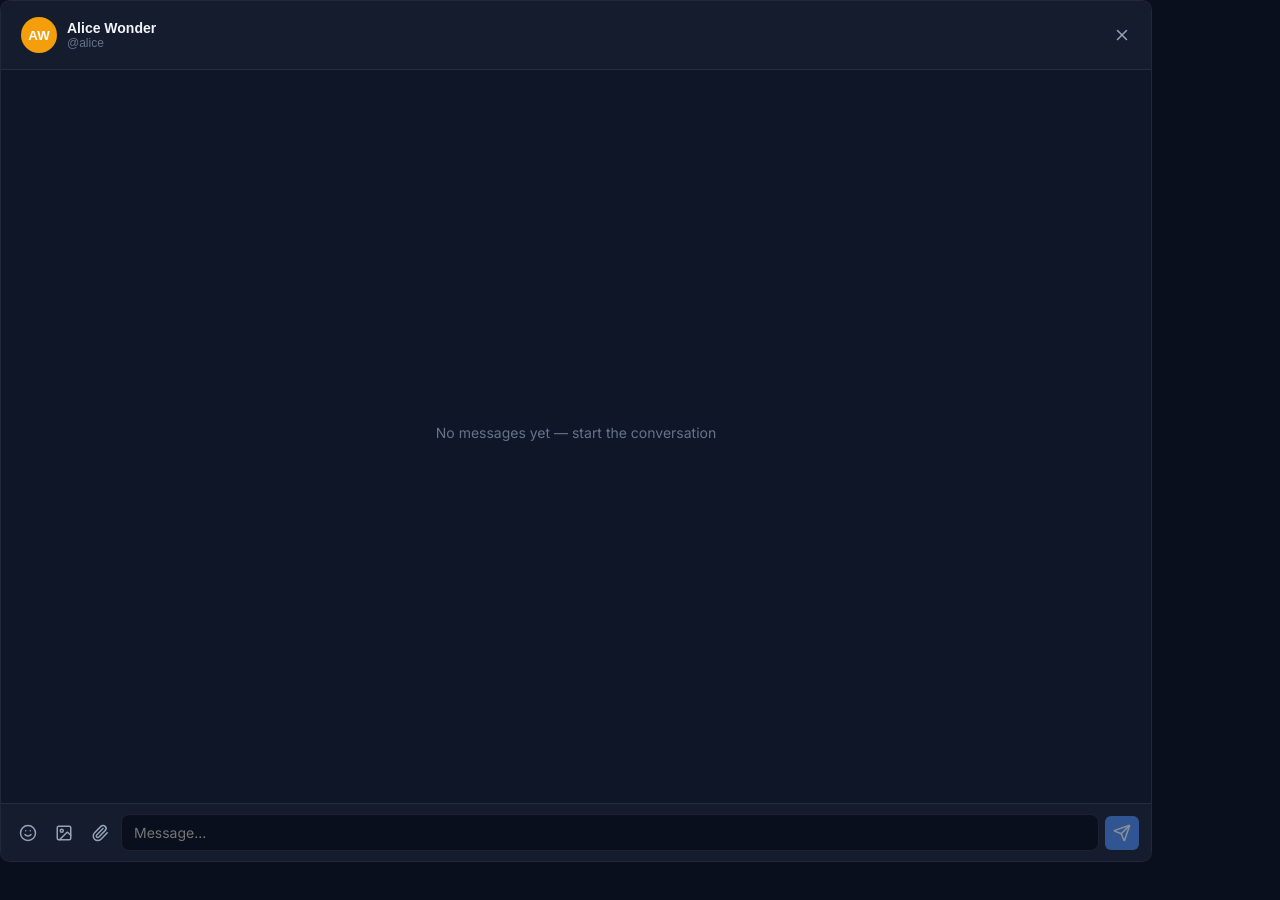
Test: ChatView › opens the GIF picker
Check: the text "No messages yet — start the conversation" is shown, box [436, 424, 716, 441]
What coordinates should you click on to do the following:
click the button named "GIF"
I would click on:
 (100, 832)
Its box is [85, 818, 115, 848].
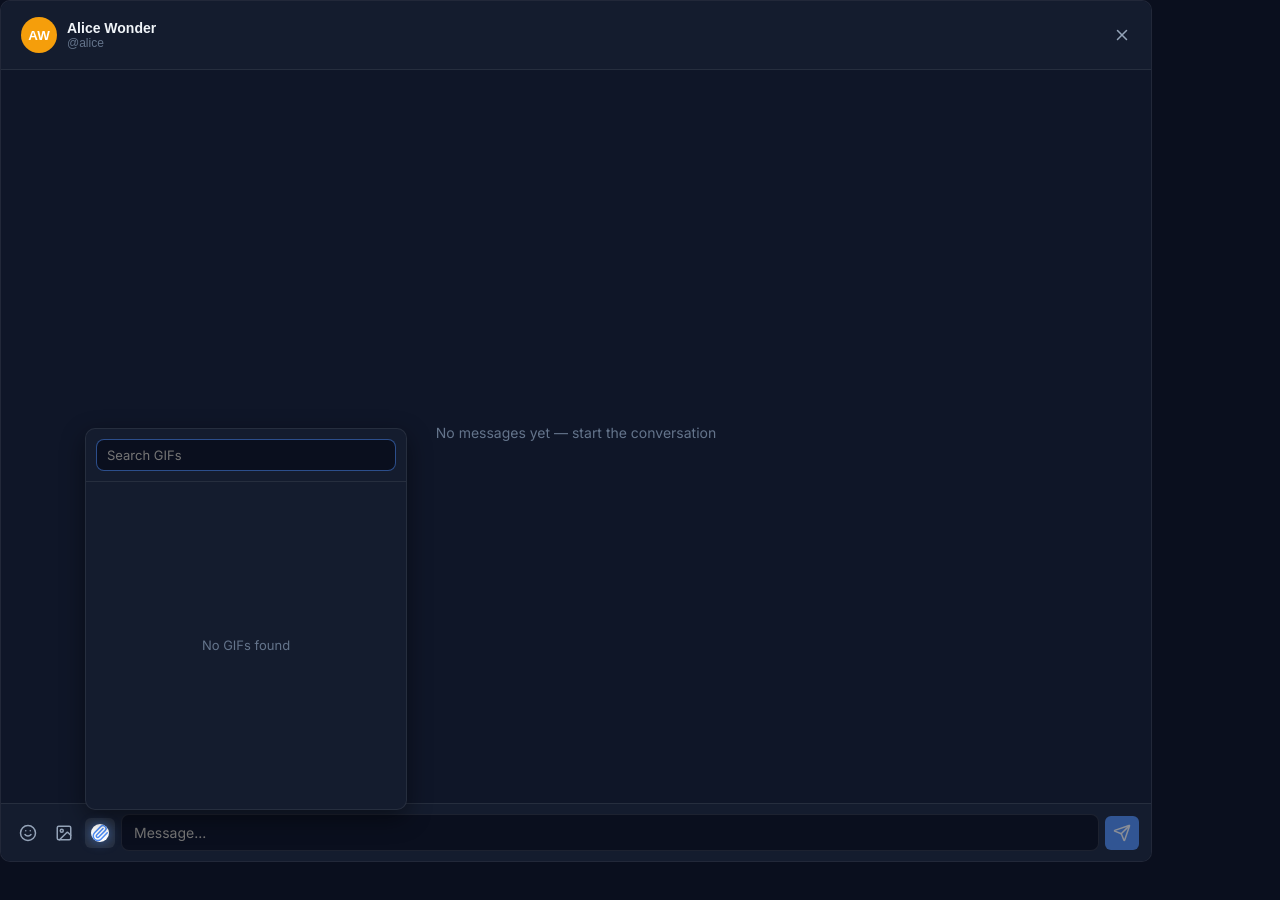
Check: the field with placeholder "Search GIFs" is shown, box [96, 438, 396, 470]
